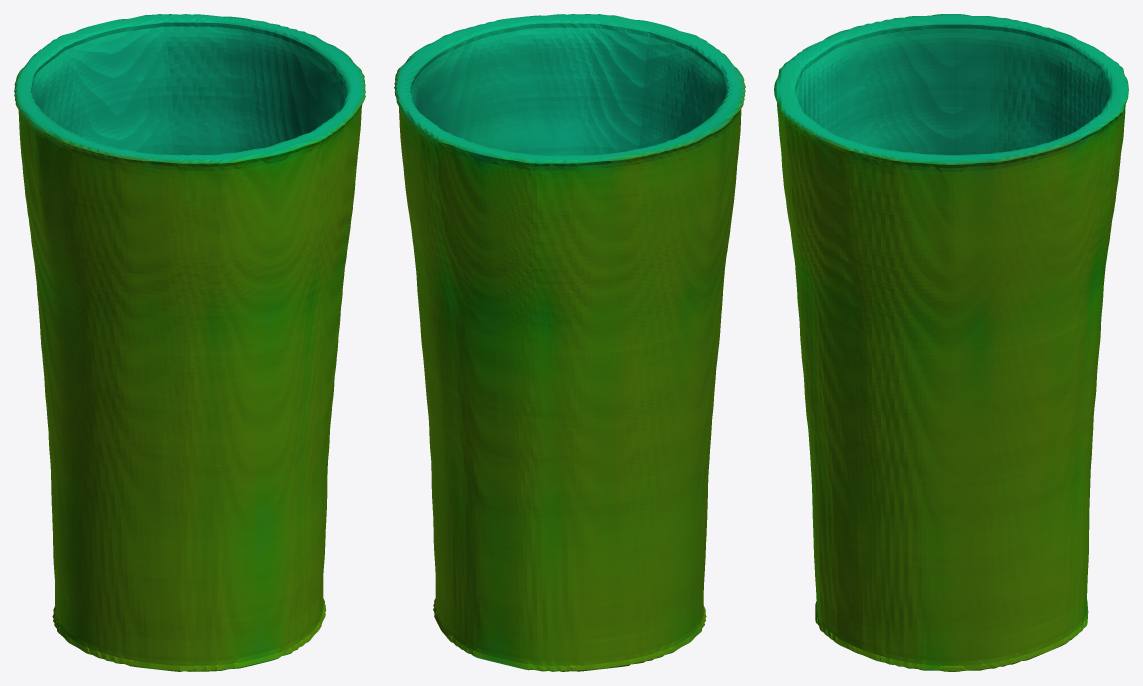
3 views of the same model, side by side, from view 1: azimuth 30°, elevation 25°; view 2: azimuth 150°, elevation 25°; view 3: azimuth 270°, elevation 25° (orthographic).
Visible parts, largest first — view 1: geometry_0; view 2: geometry_0; view 3: geometry_0.
Boxes of the visible parts, left/top/right/bottom form: geometry_0: left=14, top=14, right=365, bottom=671; geometry_0: left=394, top=14, right=745, bottom=671; geometry_0: left=774, top=14, right=1128, bottom=671.
Size of the model in its own units: 0.9781 by 1.6 by 0.9774.
